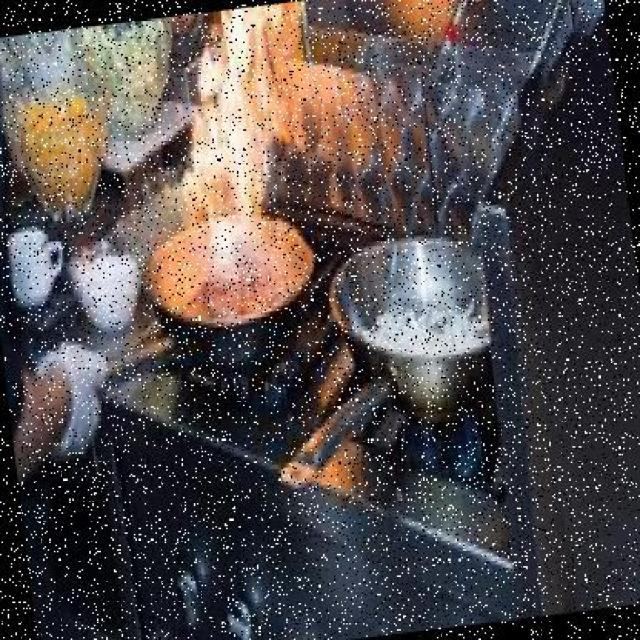fire: (151, 18, 329, 330)
